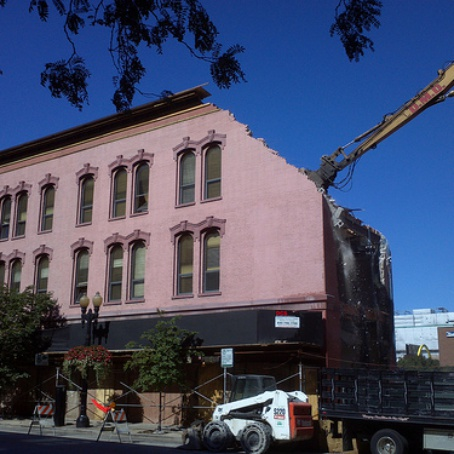building: (1, 99, 393, 372)
excavator: (319, 59, 454, 190)
sky: (1, 1, 419, 106), (397, 1, 454, 297)
tree: (124, 316, 197, 423), (1, 283, 56, 374)
